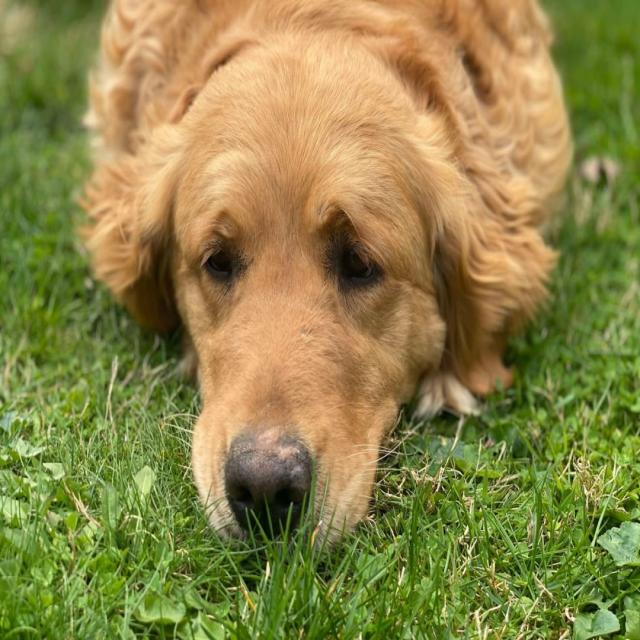golden_retriever_dog: (79, 6, 546, 576)
